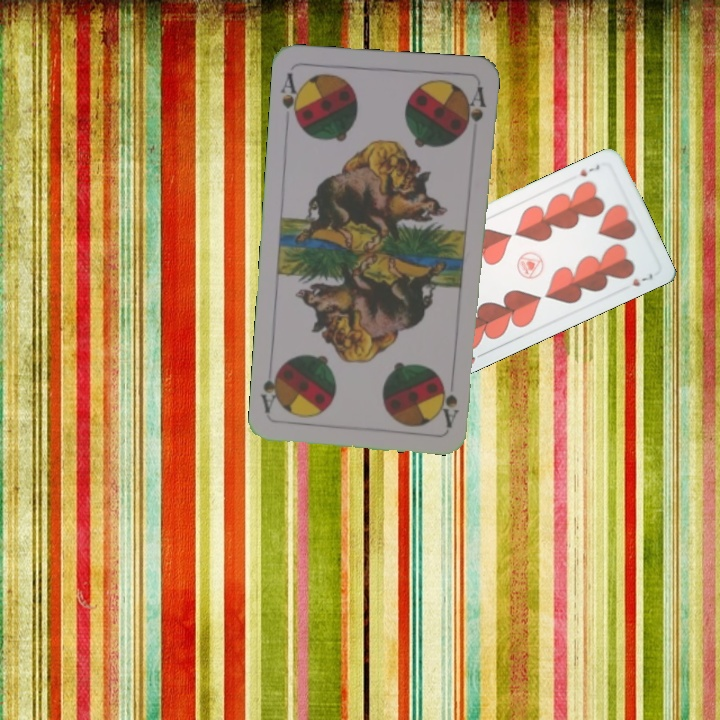H7: (576, 160, 602, 179)
SA: (277, 68, 304, 128), (441, 390, 461, 429)
